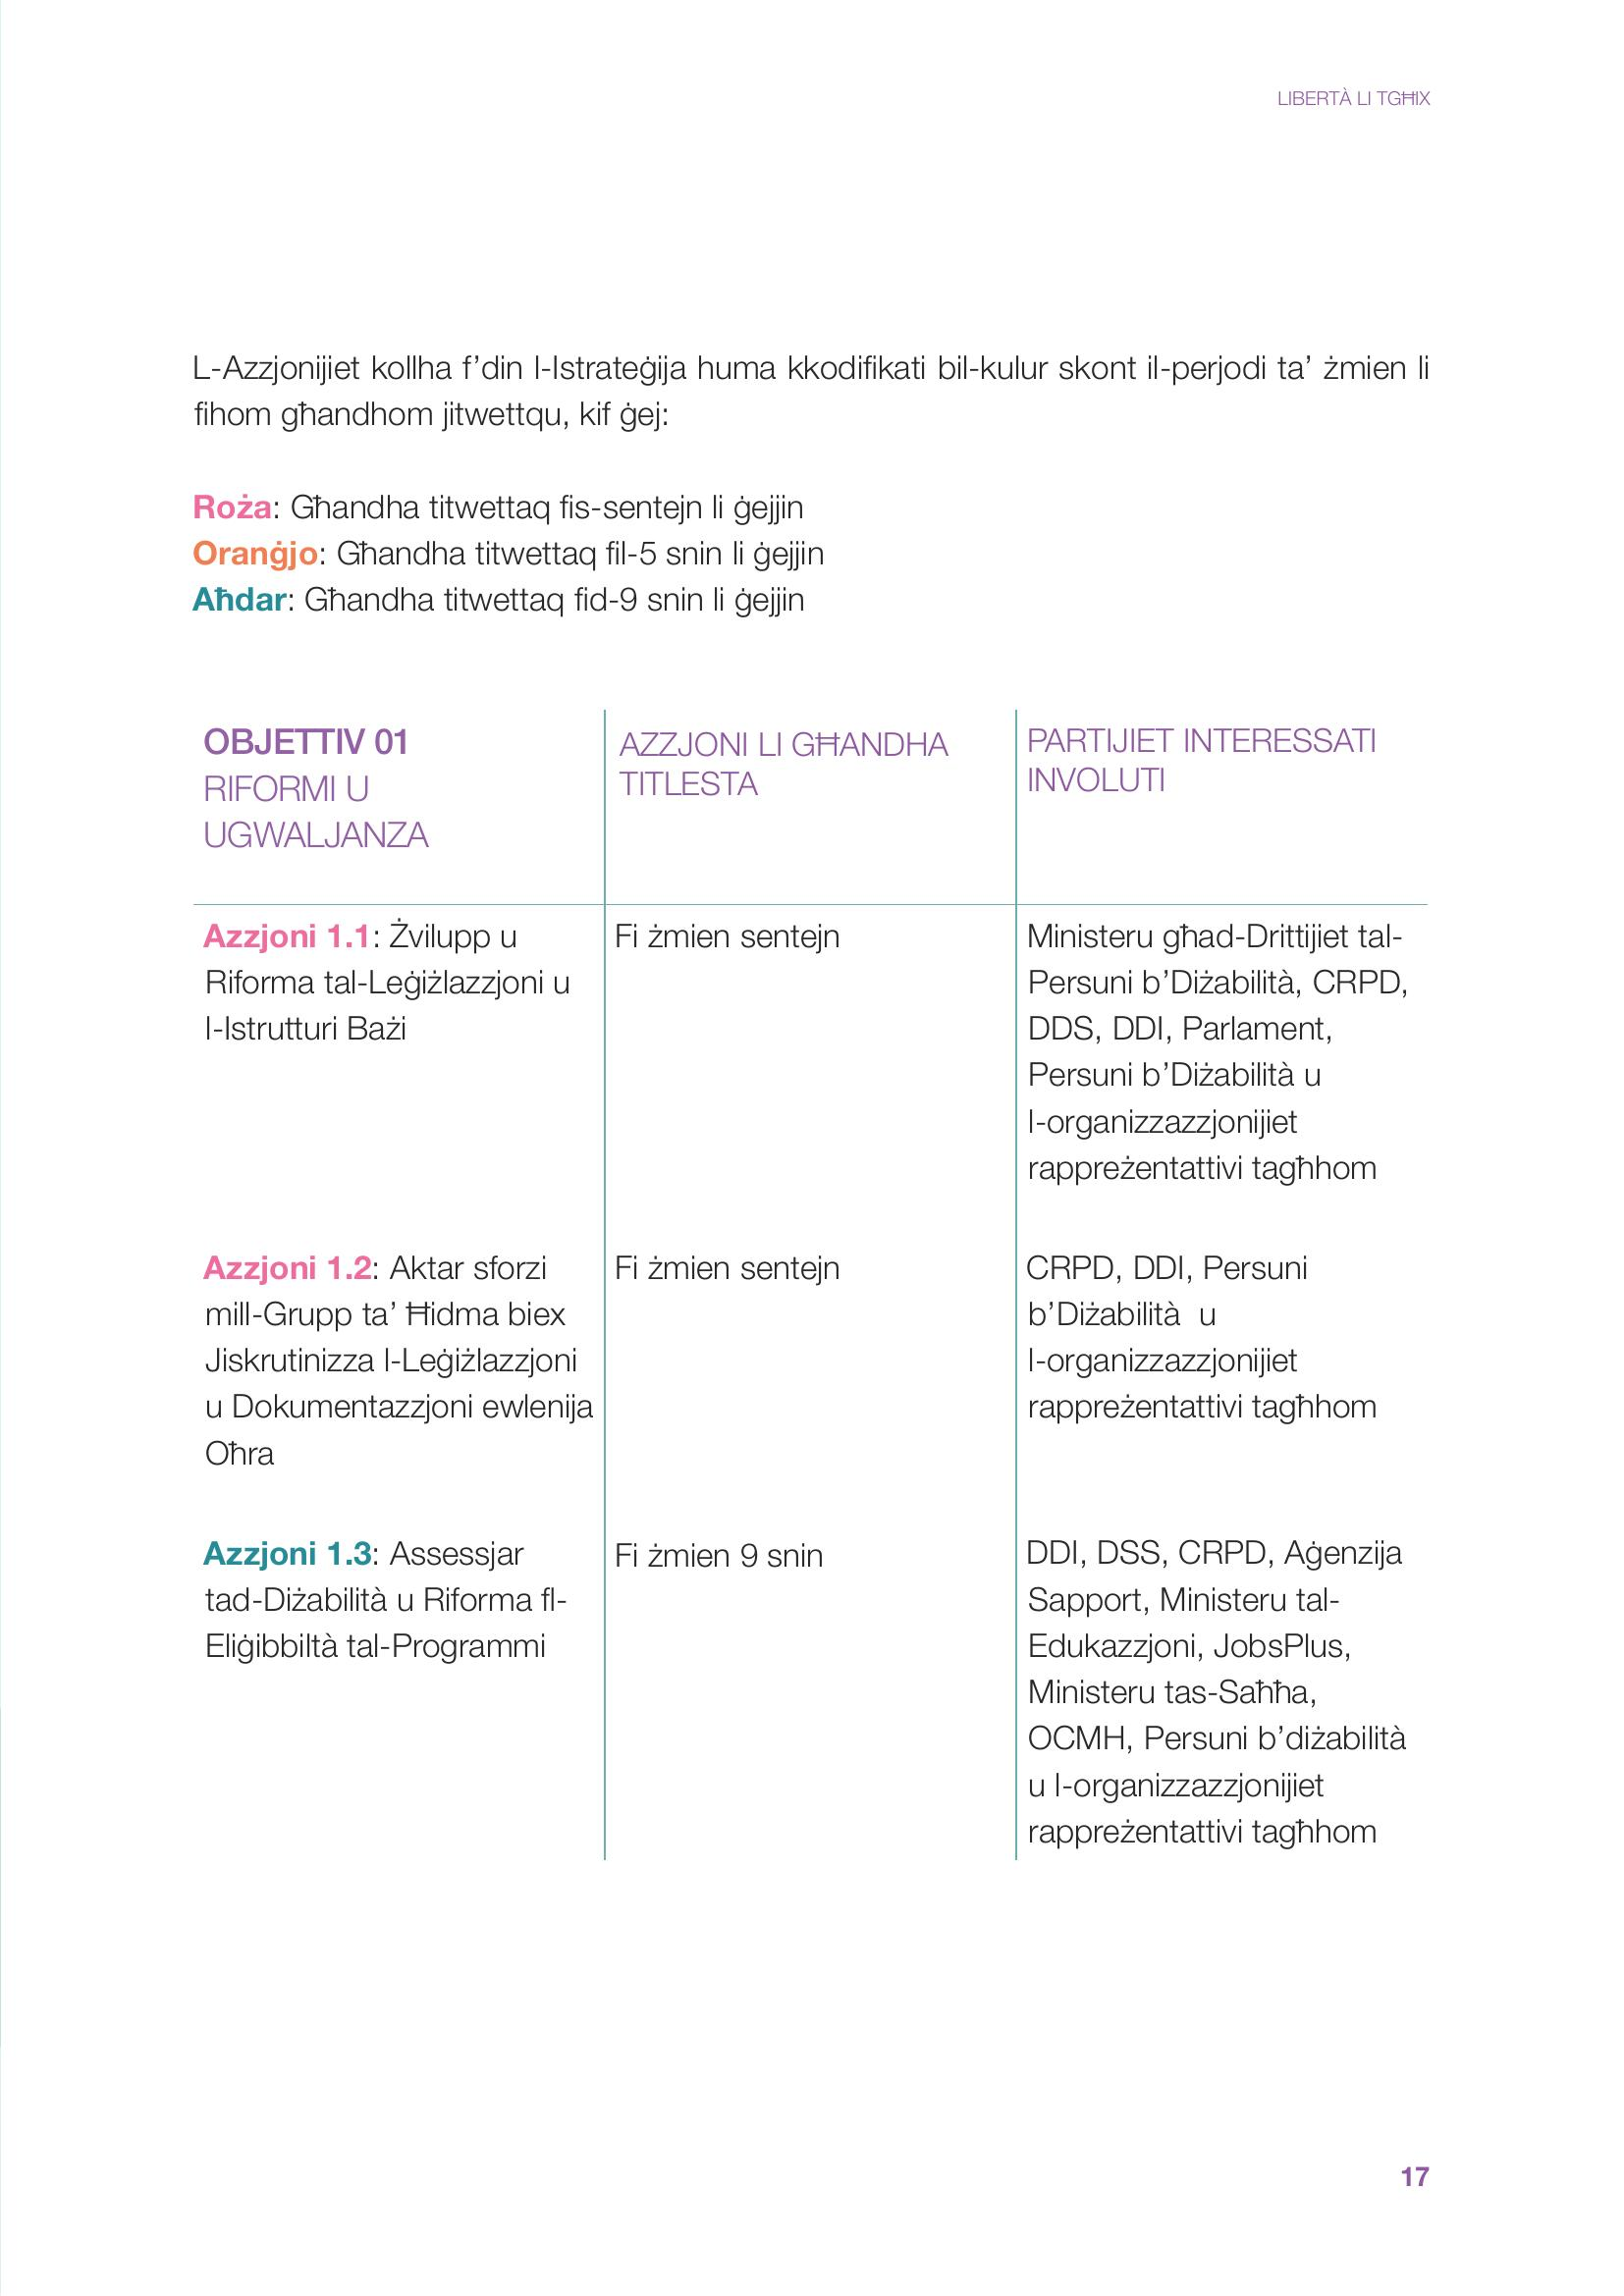text: (163, 314, 1478, 632)
